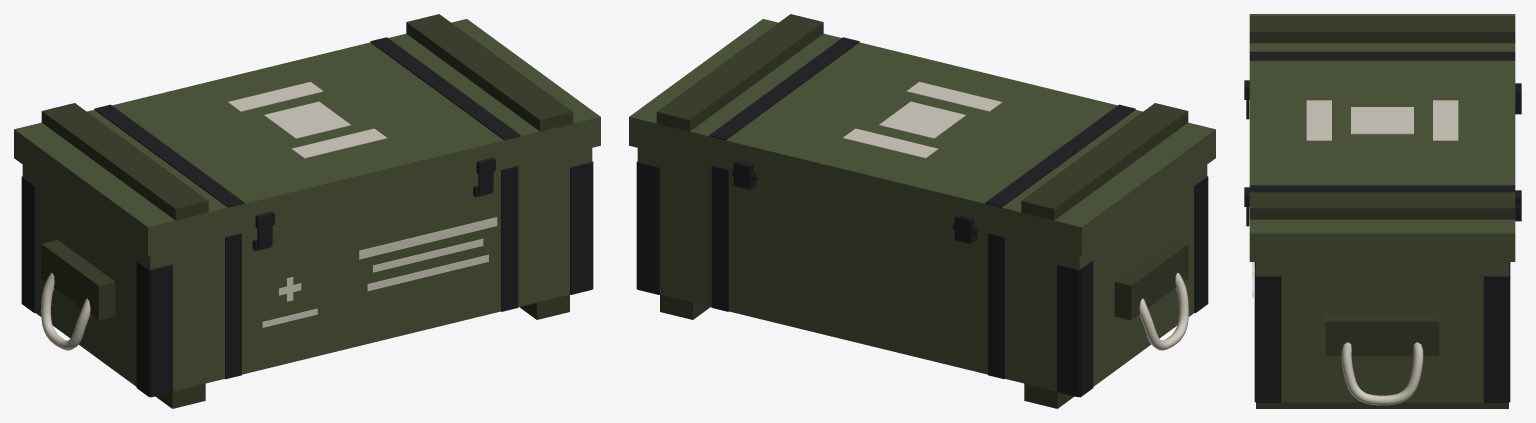
The model's file is military-ammunition-crate-about.glb.
The picture shows the model from 3 angles, left to right: view 1: azimuth 30°, elevation 25°; view 2: azimuth 150°, elevation 25°; view 3: azimuth 270°, elevation 25°; orthographic projection.
Parts seen in each view (by area): view 1: Mesh_Body, Mesh_Lid, Mesh_LidCleatL, Mesh_LidCleatR, Mesh_CleatR, Mesh_BracketFL_X, Mesh_BracketFR_X, Mesh_FrontBandL, Mesh_TopBandL, Mesh_TopBandR, Mesh_FrontBandR, Mesh_BracketBR_Z (+10 smaller); view 2: Mesh_Body, Mesh_Lid, Mesh_LidCleatL, Mesh_LidCleatR, Mesh_CleatR, Mesh_BracketBL_X, Mesh_BracketBR_X, Mesh_BackBandL, Mesh_TopBandL, Mesh_TopBandR, Mesh_BackBandR, Mesh_BracketFR_Z (+9 smaller); view 3: Mesh_Lid, Mesh_Body, Mesh_LidCleatL, Mesh_LidCleatR, Mesh_CleatL, Mesh_BracketFL_Z, Mesh_BracketBL_Z, Mesh_TopBandR, Mesh_TopBandL, Mesh_LidStencil, Mesh_RopeHandleL, Mesh_SkidL (+4 smaller).
Part boxes in pixels (<box>): Mesh_Body: <box>22,148,592,391</box>; Mesh_Lid: <box>14,19,600,255</box>; Mesh_LidCleatL: <box>406,14,573,131</box>; Mesh_LidCleatR: <box>41,103,208,220</box>; Mesh_CleatR: <box>41,240,115,320</box>; Mesh_BracketFL_X: <box>570,162,592,294</box>; Mesh_BracketFR_X: <box>150,264,172,397</box>; Mesh_FrontBandL: <box>501,166,518,311</box>; Mesh_TopBandL: <box>370,37,520,140</box>; Mesh_TopBandR: <box>94,104,244,207</box>; Mesh_FrontBandR: <box>225,233,241,379</box>; Mesh_BracketBR_Z: <box>21,176,35,313</box>; Mesh_Body: <box>637,148,1207,391</box>; Mesh_Lid: <box>629,19,1215,255</box>; Mesh_LidCleatL: <box>656,14,823,131</box>; Mesh_LidCleatR: <box>1021,103,1188,220</box>; Mesh_CleatR: <box>1114,240,1188,320</box>; Mesh_BracketBL_X: <box>637,162,659,294</box>; Mesh_BracketBR_X: <box>1057,264,1079,397</box>; Mesh_BackBandL: <box>711,166,728,311</box>; Mesh_TopBandL: <box>709,37,859,140</box>; Mesh_TopBandR: <box>985,104,1135,207</box>; Mesh_BackBandR: <box>988,233,1004,379</box>; Mesh_BracketFR_Z: <box>1194,176,1208,313</box>; Mesh_Lid: <box>1249,14,1515,261</box>; Mesh_Body: <box>1256,262,1508,402</box>; Mesh_LidCleatL: <box>1249,192,1515,219</box>; Mesh_LidCleatR: <box>1249,16,1515,43</box>; Mesh_CleatL: <box>1325,313,1439,355</box>; Mesh_BracketFL_Z: <box>1256,276,1281,402</box>; Mesh_BracketBL_Z: <box>1483,276,1508,402</box>; Mesh_TopBandR: <box>1249,51,1515,60</box>; Mesh_TopBandL: <box>1249,185,1515,192</box>; Mesh_LidStencil: <box>1351,107,1413,134</box>; Mesh_RopeHandleL: <box>1341,342,1423,405</box>; Mesh_SkidL: <box>1256,402,1508,408</box>.
Size of the model in its own units: 0.917 by 0.35 by 0.4385.
